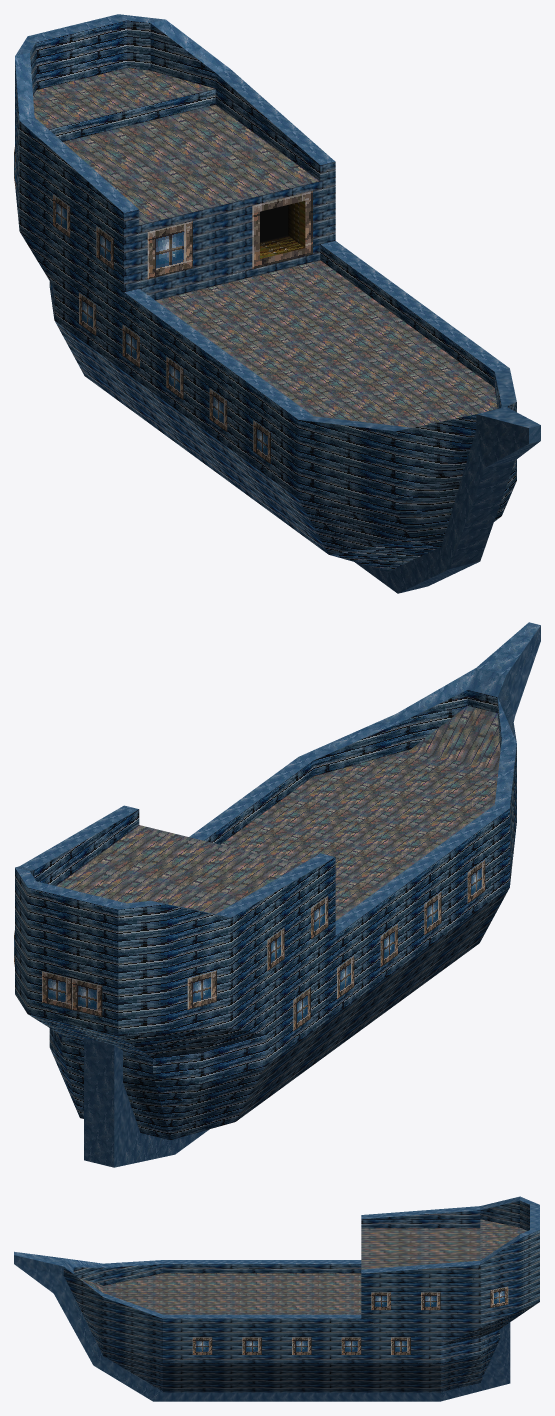
Rendered from ki_fune_down_a.glb.
3 views of the same model, one above another, from view 1: azimuth 30°, elevation 25°; view 2: azimuth 150°, elevation 25°; view 3: azimuth 270°, elevation 25° (orthographic). The views are drawn at different scales.
Visible parts, largest first — view 1: ki_fune_down_a; view 2: ki_fune_down_a; view 3: ki_fune_down_a.
Boxes of the visible parts, x1,y1,x2,y2 form: ki_fune_down_a: (14,14,540,593); ki_fune_down_a: (14,622,540,1167); ki_fune_down_a: (14,1196,539,1401).
Size of the model in its own units: 178 by 250 by 664.
5 materials, 5 textured.
